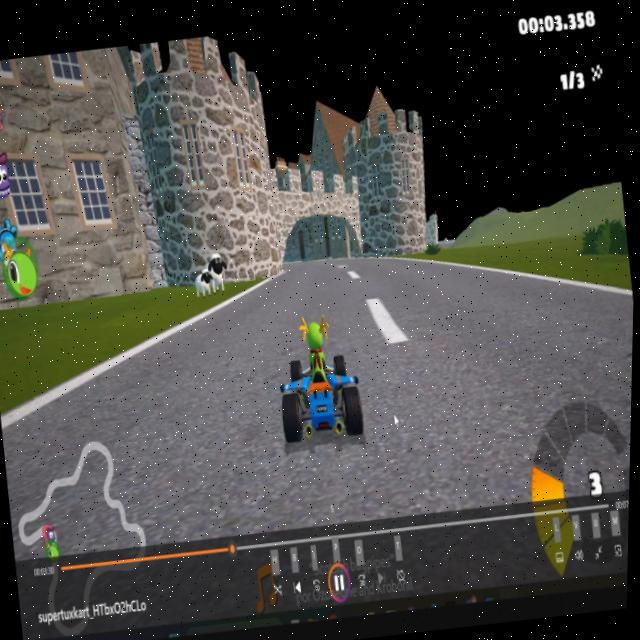off_track: (0, 264, 191, 353)
player_kart: (268, 307, 372, 454)
track: (369, 290, 598, 407), (164, 321, 285, 527), (279, 254, 406, 323)
